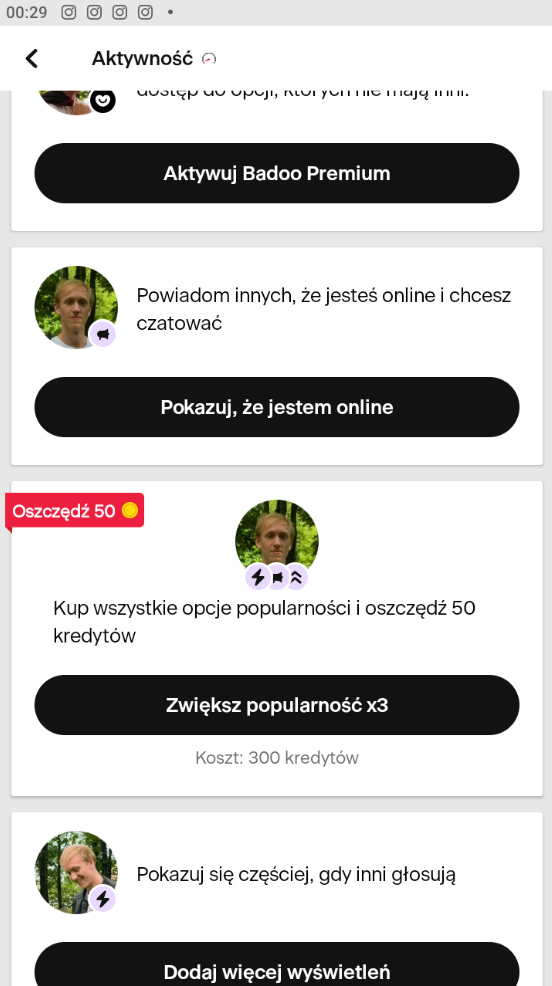kupno_button: (36, 669, 519, 734), (36, 141, 514, 203), (31, 380, 523, 439), (34, 937, 519, 986)
